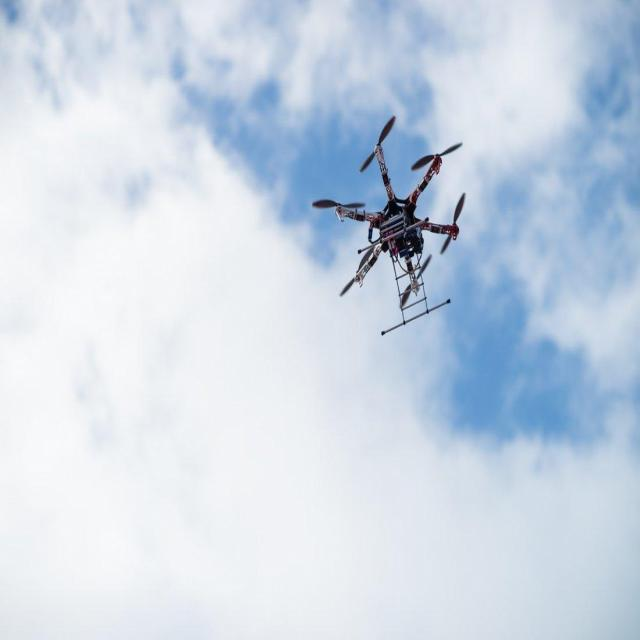UAV: (329, 125, 465, 331)
